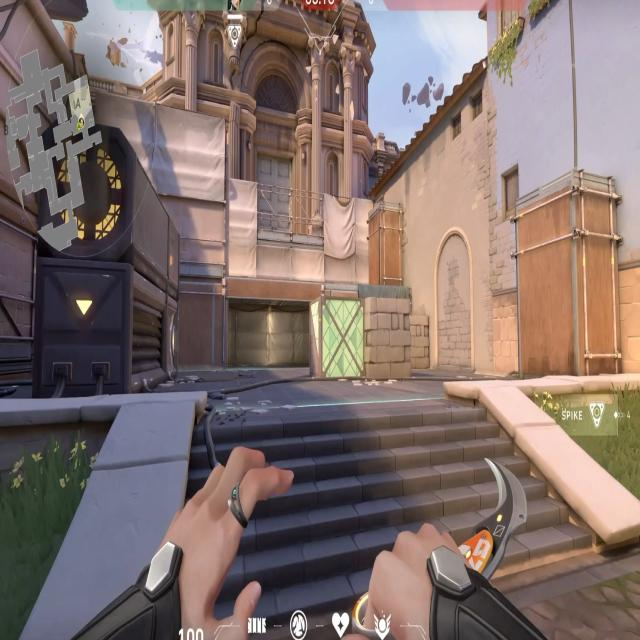A_Heaven_Box: (366, 193, 408, 289)
A_Heaven_Wall: (138, 83, 232, 268)
A_Hell: (218, 265, 310, 370)
A_Site_Box: (308, 289, 414, 386)
